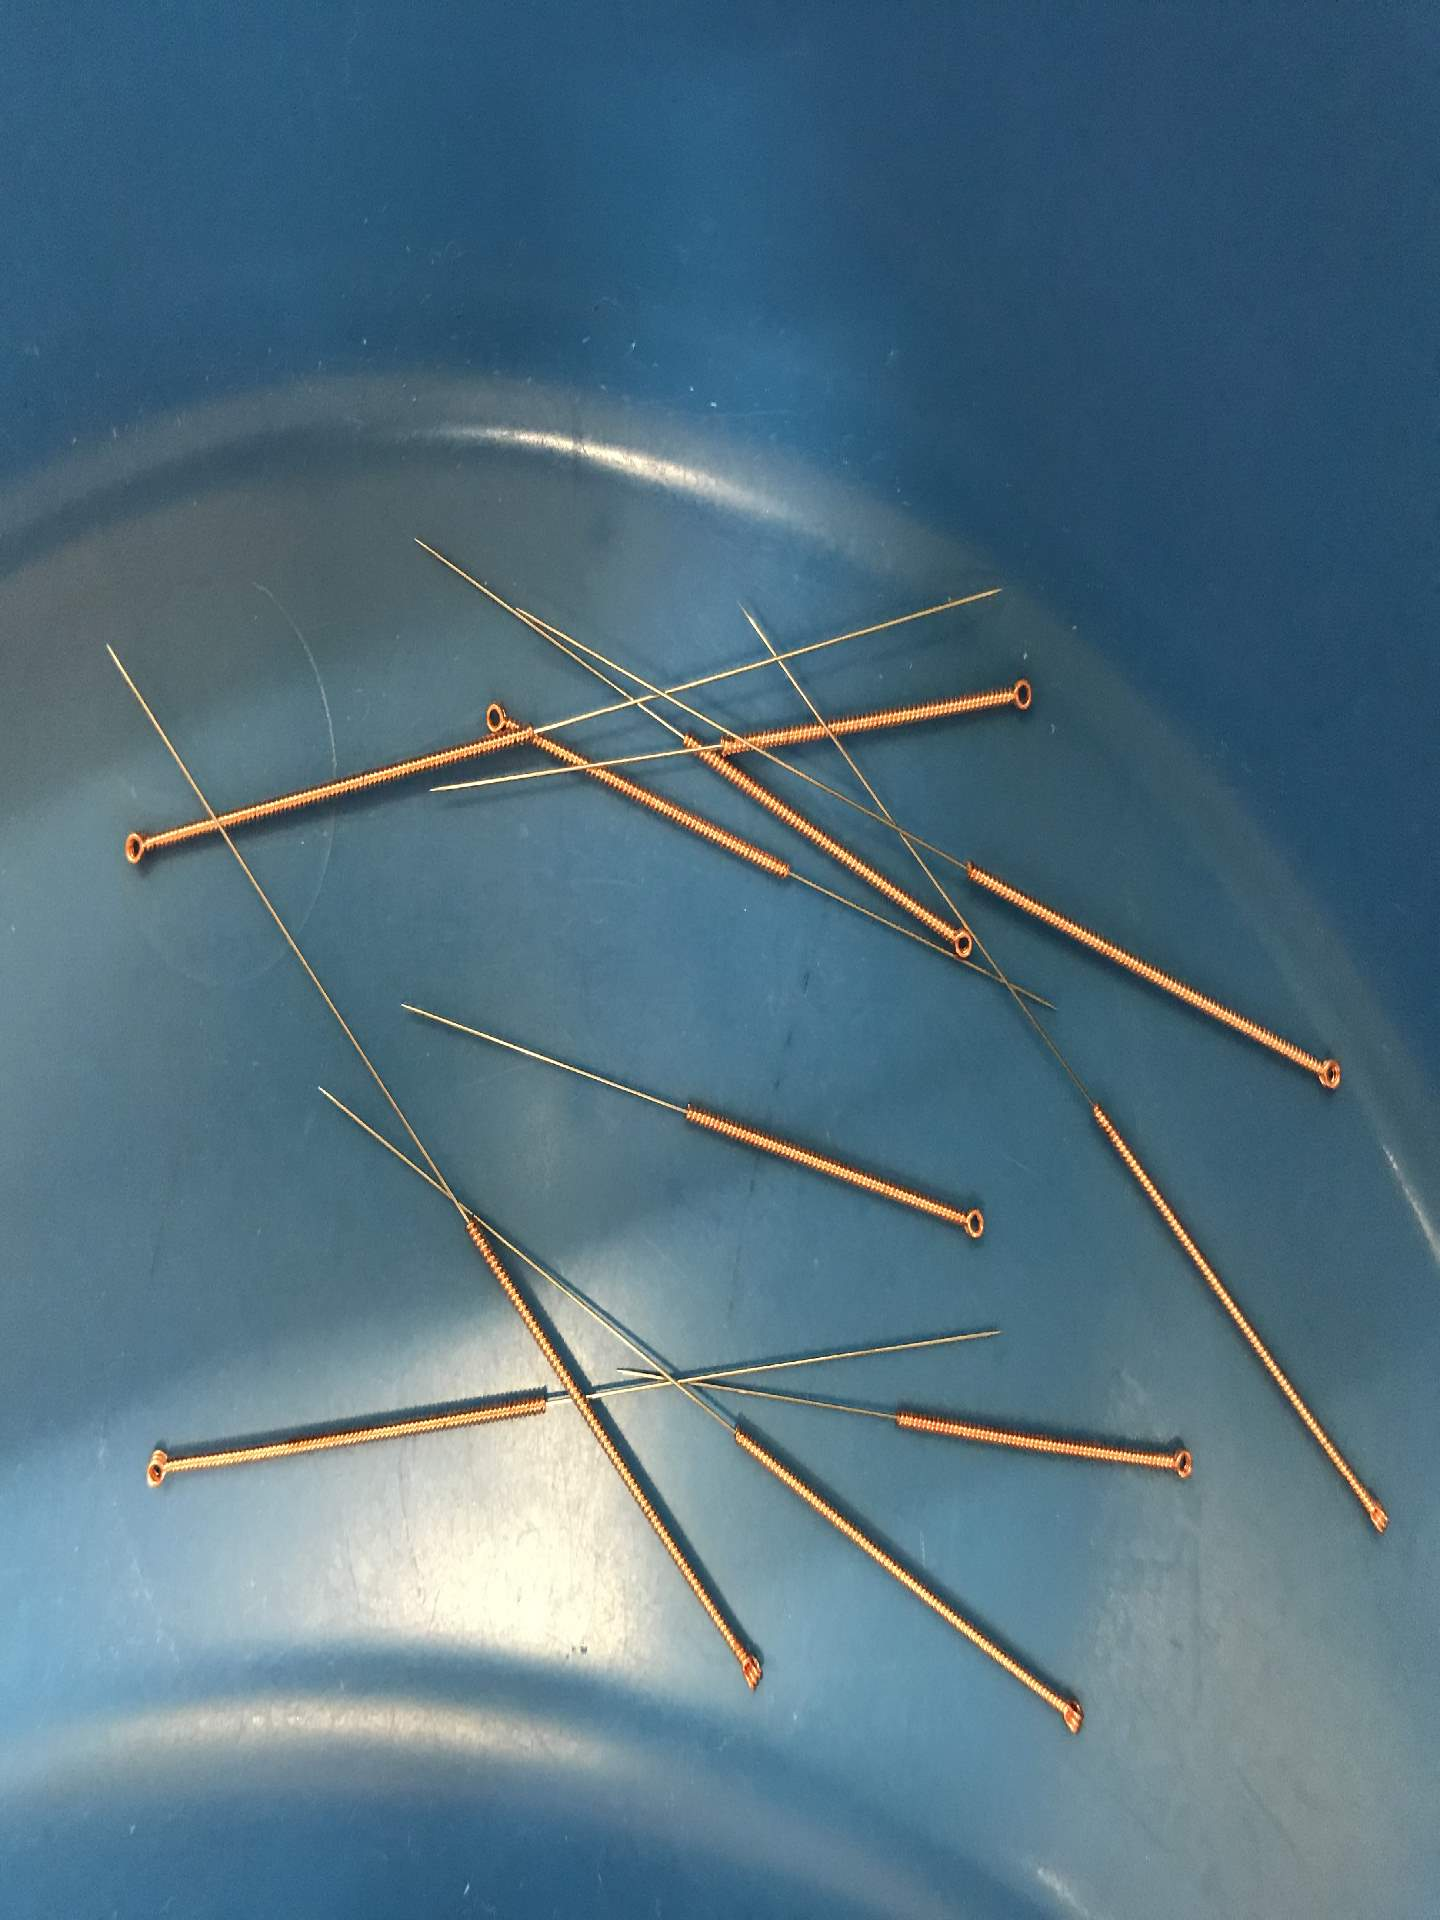needle: (103, 816, 163, 875), (1150, 1436, 1207, 1494), (1039, 1684, 1095, 1743), (723, 1642, 777, 1699), (991, 668, 1047, 721), (1302, 1039, 1349, 1101), (945, 1194, 997, 1250), (1352, 1486, 1399, 1544), (135, 1439, 183, 1494), (933, 918, 983, 968), (470, 689, 519, 738)
